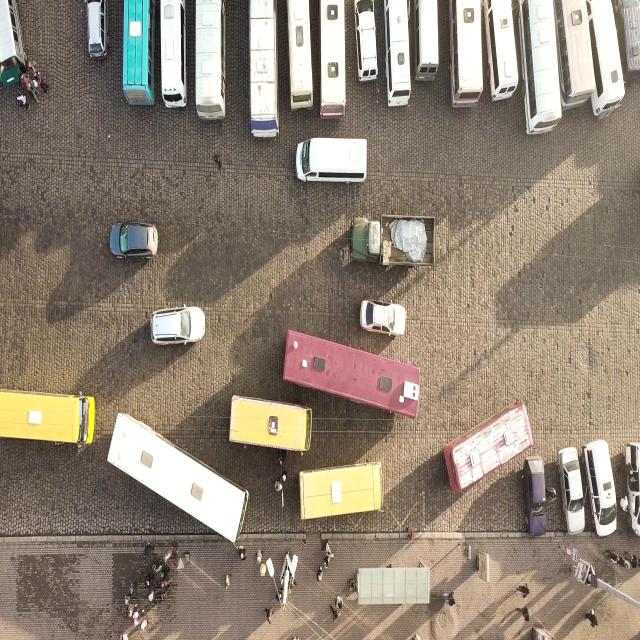Bus: (106, 412, 249, 544), (274, 323, 436, 423), (442, 401, 531, 493), (0, 390, 97, 444), (298, 462, 382, 524), (229, 395, 309, 452)
Car: (518, 2, 563, 134), (584, 1, 626, 116), (554, 1, 598, 110), (145, 292, 211, 357), (249, 3, 279, 138), (483, 1, 518, 104), (195, 2, 225, 121), (451, 2, 484, 108), (583, 440, 618, 534), (320, 0, 346, 120), (286, 1, 312, 115), (384, 0, 411, 106), (160, 1, 186, 110), (558, 447, 586, 534), (0, 1, 27, 88), (354, 0, 378, 84), (414, 0, 438, 82), (110, 222, 158, 261), (524, 456, 547, 536), (389, 218, 427, 262), (622, 444, 640, 535), (361, 300, 406, 336), (86, 0, 110, 59), (350, 219, 380, 263)
Van: (292, 128, 374, 188), (122, 1, 156, 108)
